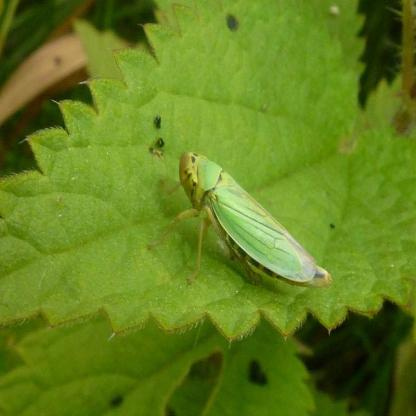Green-Leafhopper: (160, 142, 331, 316)
